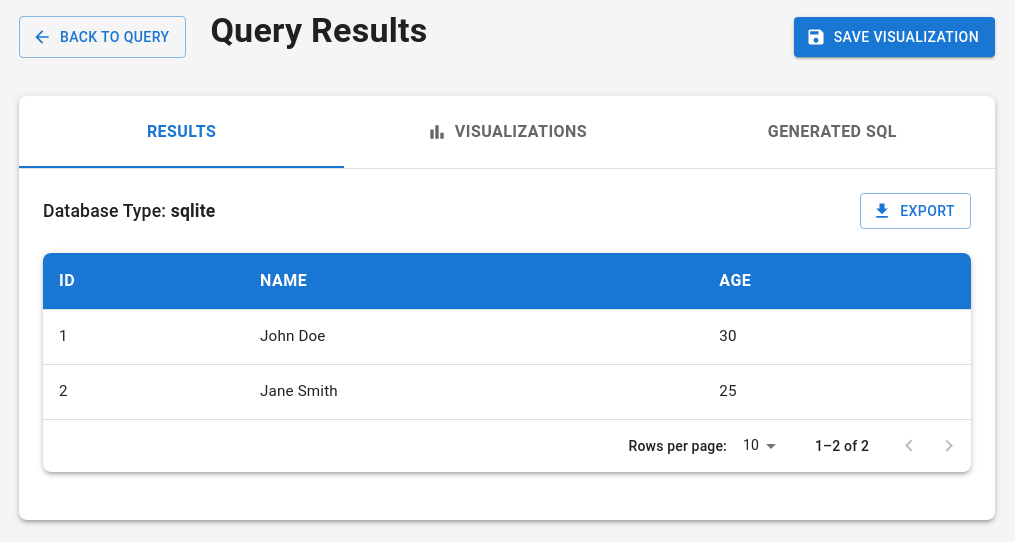
ResultsDisplay Component › switches to SQL tab when clicked
Note: Click on the SQL tab
Click the tab "Generated SQL". click: (832, 132)
box: [670,96,995,168]
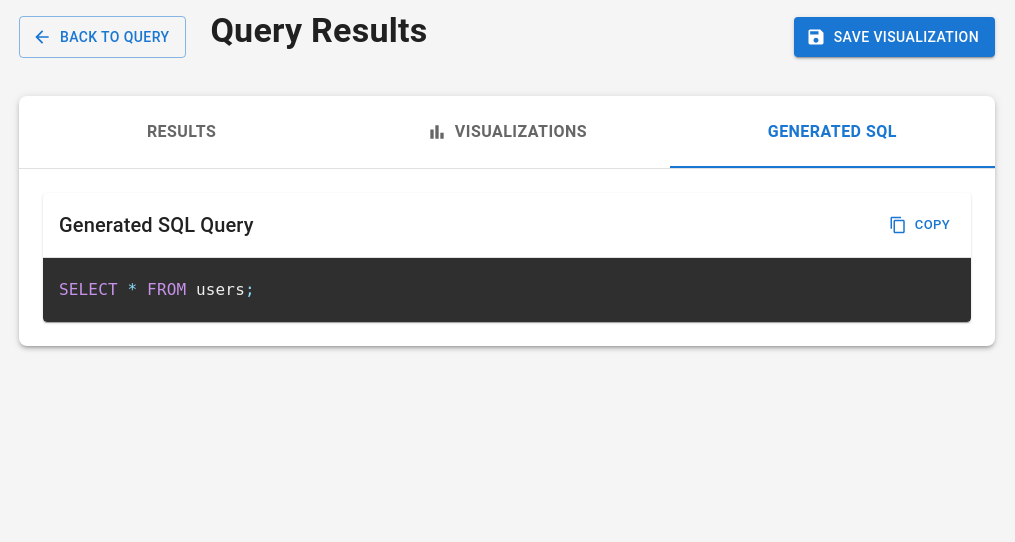
Expected: the heading "Generated SQL Query" is shown, [59,209,254,241]
